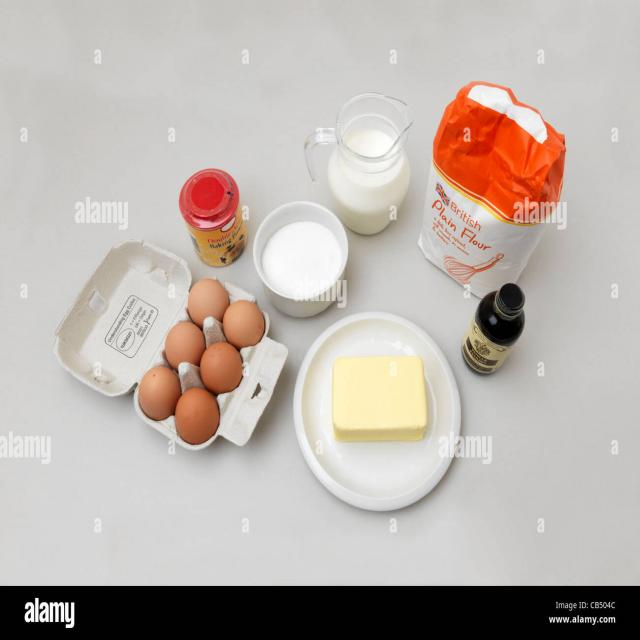Egg: (174, 385, 222, 447), (198, 336, 246, 397), (137, 362, 183, 424), (221, 294, 268, 349), (185, 274, 232, 329), (163, 318, 210, 372)
Milk carton/jug: (326, 128, 414, 238)
Sugar: (262, 215, 342, 298)
